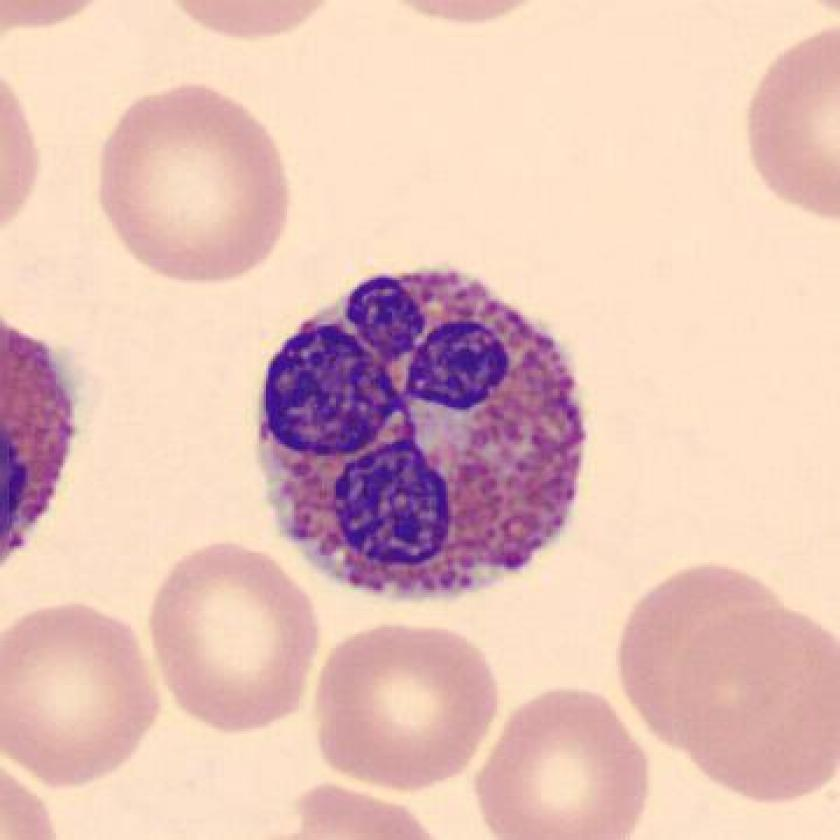eosinophil: (239, 253, 603, 614)
